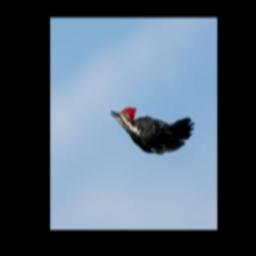Woodpecker: (111, 107, 196, 153)
